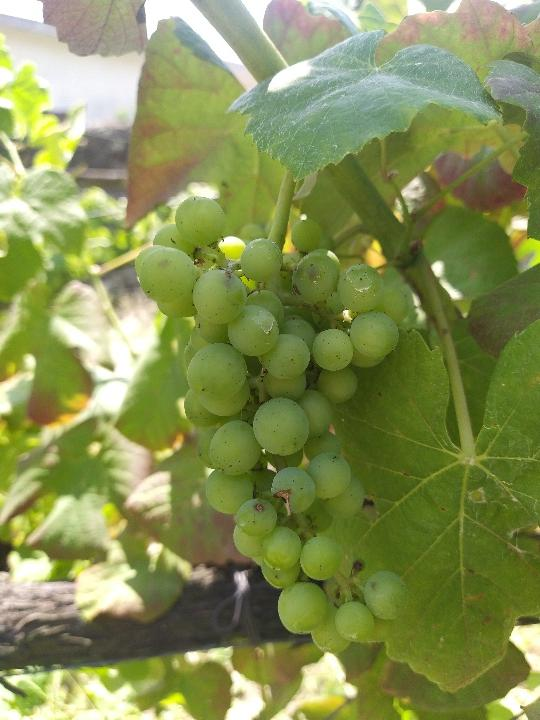grape: (135, 192, 418, 658)
